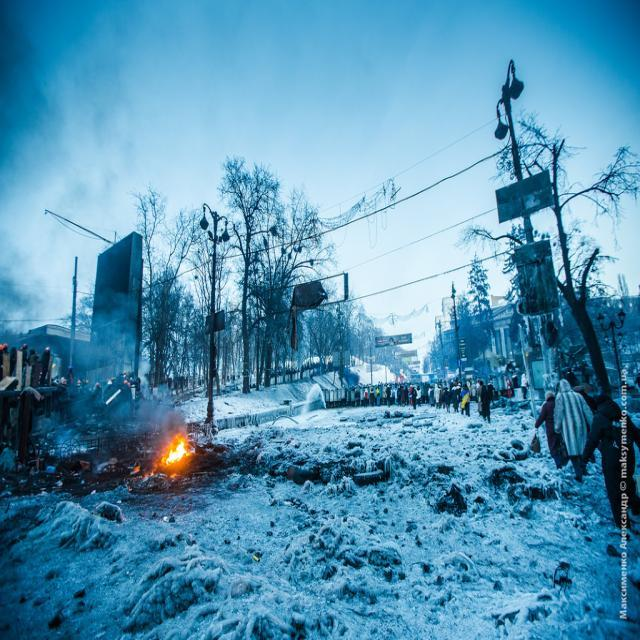Fire: (156, 428, 196, 472)
